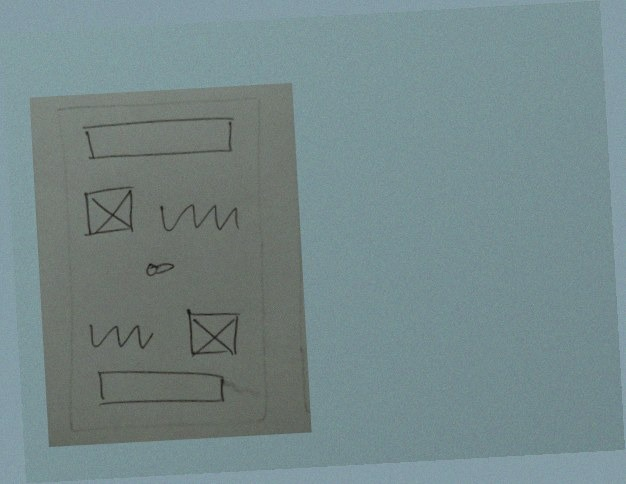image: (177, 301, 251, 368), (78, 182, 140, 242)
switch: (138, 252, 183, 284)
text: (153, 193, 243, 243), (84, 312, 160, 361)
text_input: (89, 361, 234, 417), (80, 114, 238, 164)
